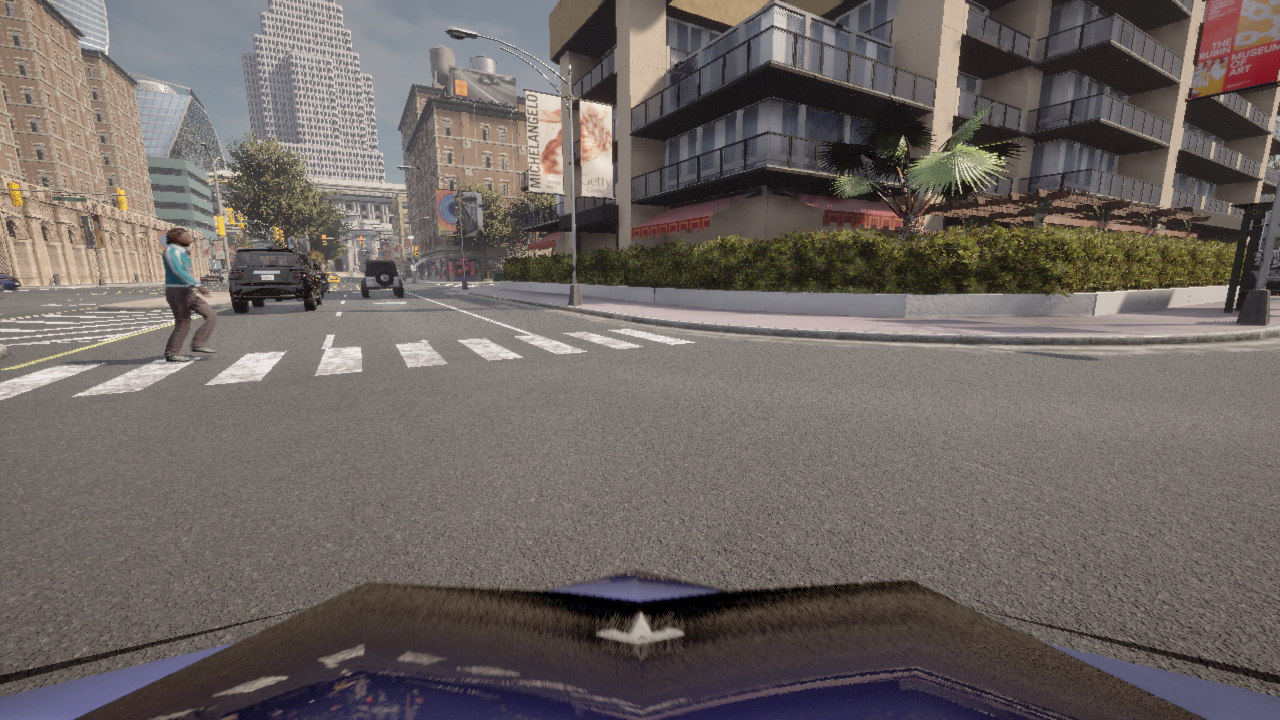cyclist: (0, 569, 1279, 719), (228, 247, 321, 312), (361, 260, 403, 297), (275, 276, 323, 301), (200, 274, 223, 283), (326, 271, 340, 284), (319, 274, 329, 292)
pedestrian: (162, 227, 217, 361)
